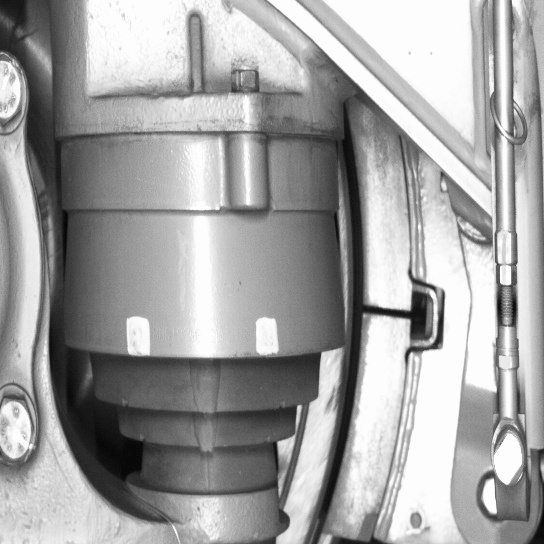KnifeSwitch: (300, 136, 422, 543)
